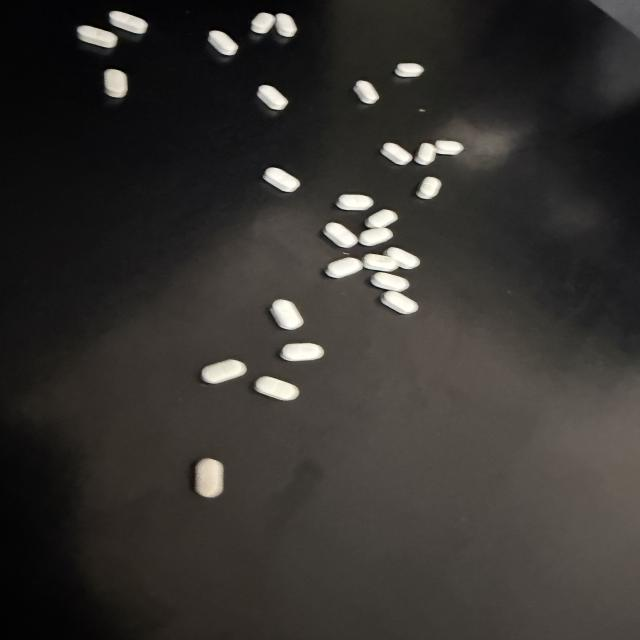pill: (194, 459, 223, 497), (201, 360, 246, 384), (254, 377, 299, 400), (271, 300, 303, 329), (263, 167, 300, 192), (77, 26, 117, 48), (109, 11, 147, 34), (381, 291, 418, 314), (324, 223, 358, 247), (384, 247, 420, 269), (280, 343, 324, 361), (326, 257, 363, 278), (257, 85, 288, 110), (371, 272, 409, 291), (208, 31, 238, 55), (381, 143, 412, 165), (104, 69, 127, 98), (364, 209, 398, 228), (359, 228, 393, 246), (336, 194, 373, 210), (363, 254, 397, 271), (354, 80, 379, 103), (417, 177, 441, 199), (275, 14, 297, 37), (251, 13, 275, 33), (414, 143, 436, 164), (435, 140, 464, 155), (395, 63, 424, 77)
